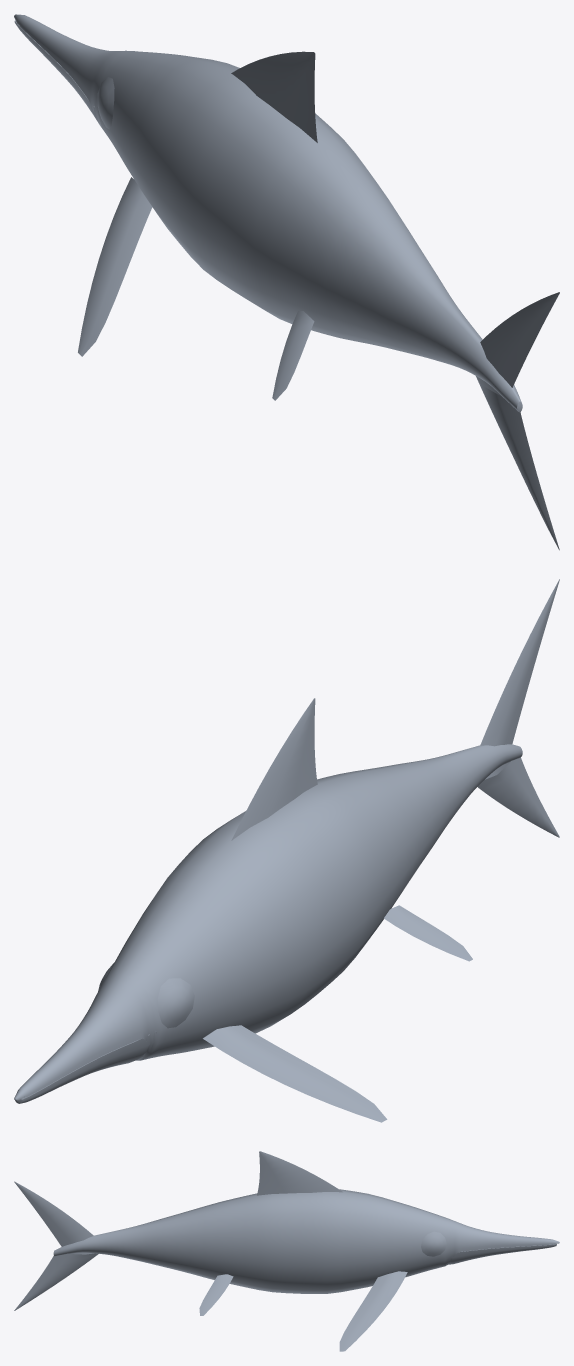
The model's file is ichthyosaur_lo.glb.
3 renders of one model, top to bottom at view 1: azimuth 30°, elevation 25°; view 2: azimuth 150°, elevation 25°; view 3: azimuth 270°, elevation 25°, orthographic. The views are drawn at different scales.
Visible parts, largest first — view 1: ichthyosaur_lo; view 2: ichthyosaur_lo; view 3: ichthyosaur_lo.
Boxes of the visible parts, x1,y1,x2,y2 form: ichthyosaur_lo: [14, 14, 559, 550]; ichthyosaur_lo: [14, 579, 559, 1122]; ichthyosaur_lo: [14, 1151, 559, 1351].
Size of the model in its own units: 1.29 by 1.32 by 4.
